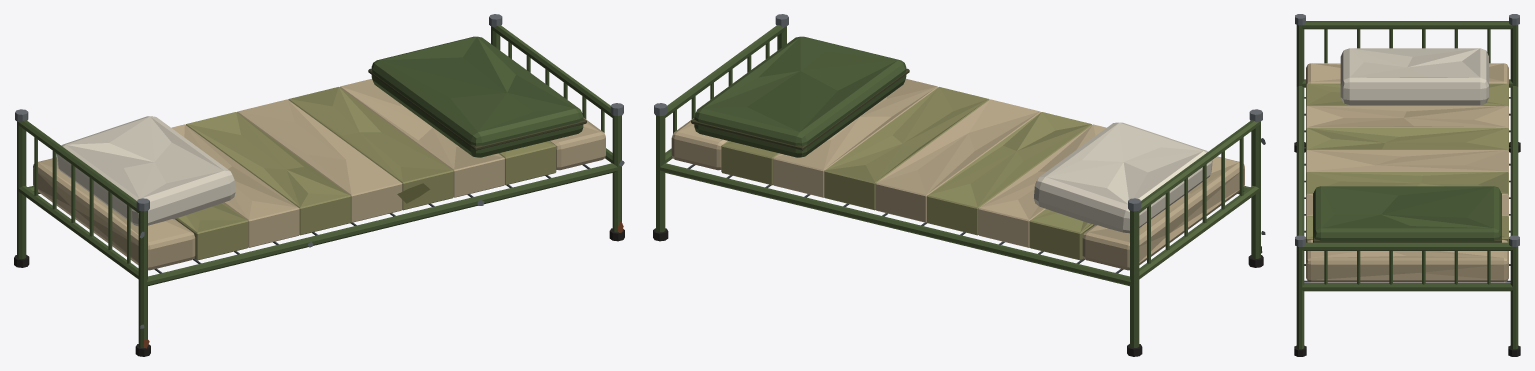
Rendered from bed_single_zheleznaya_koyka_idle.glb.
3 views of the same model, side by side, from view 1: azimuth 30°, elevation 25°; view 2: azimuth 150°, elevation 25°; view 3: azimuth 270°, elevation 25° (orthographic). The views are drawn at different scales.
Visible parts, largest first — view 1: bed_single_zheleznaya_koyka_idle; view 2: bed_single_zheleznaya_koyka_idle; view 3: bed_single_zheleznaya_koyka_idle.
Part boxes in pixels (x1,y1,x2,y2): bed_single_zheleznaya_koyka_idle: [14, 14, 624, 356]; bed_single_zheleznaya_koyka_idle: [653, 14, 1265, 356]; bed_single_zheleznaya_koyka_idle: [1294, 14, 1520, 356].
Size of the model in its own units: 2 by 0.6 by 0.9163.
Materials: 1 (1 with a texture image).
